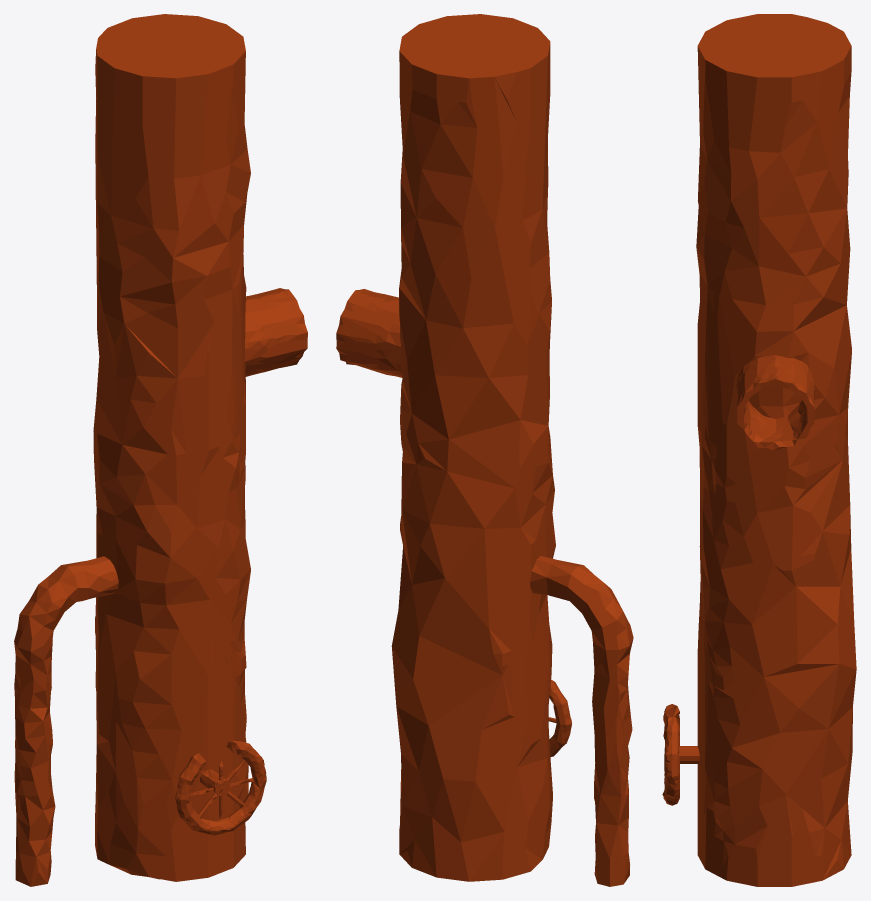
Rendered from Pipe.fbx.
3 renders of one model, left to right at view 1: azimuth 30°, elevation 25°; view 2: azimuth 150°, elevation 25°; view 3: azimuth 270°, elevation 25°, orthographic.
Parts seen in each view (by area): view 1: Cylinder, Cylinder.001, Cylinder.002, Torus; view 2: Cylinder, Cylinder.001, Cylinder.002, Torus; view 3: Cylinder, Cylinder.002, Torus.
Boxes of the visible parts, left/top/right/bottom form: Cylinder: left=93, top=14, right=250, bottom=881; Cylinder.001: left=14, top=556, right=118, bottom=886; Cylinder.002: left=244, top=288, right=307, bottom=376; Torus: left=175, top=741, right=266, bottom=835; Cylinder: left=391, top=14, right=555, bottom=881; Cylinder.001: left=530, top=556, right=633, bottom=886; Cylinder.002: left=336, top=289, right=402, bottom=377; Torus: left=548, top=679, right=571, bottom=757; Cylinder: left=696, top=14, right=856, bottom=886; Cylinder.002: left=736, top=355, right=814, bottom=449; Torus: left=662, top=704, right=699, bottom=805.
Bounding box in the file's own units: 414 × 1161 × 252.
